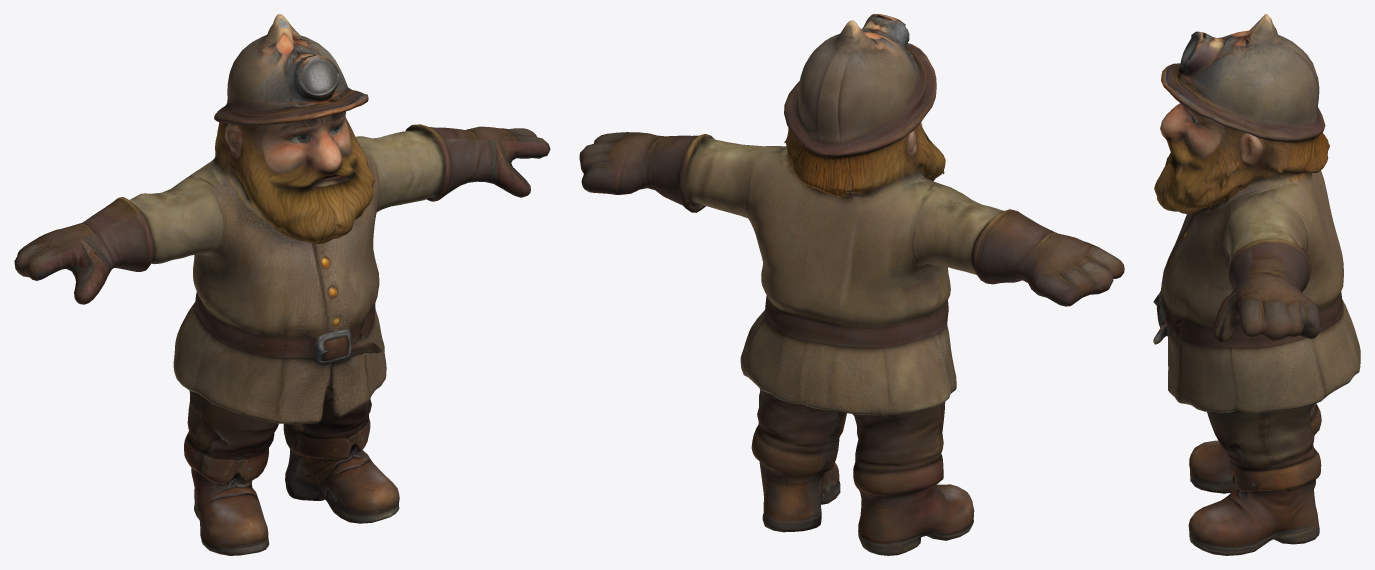
File: Miner.fbx
3 views of the same model, side by side, from view 1: azimuth 30°, elevation 25°; view 2: azimuth 150°, elevation 25°; view 3: azimuth 270°, elevation 25° (orthographic).
Parts seen in each view (by area): view 1: Mesh1.0; view 2: Mesh1.0; view 3: Mesh1.0.
Part boxes in pixels (box(x1,y1,x2,y2)): Mesh1.0: box(14, 14, 550, 555); Mesh1.0: box(579, 14, 1124, 555); Mesh1.0: box(1153, 14, 1360, 555).
Bounding box in the file's own units: 199 × 182 × 68.79.
Materials: 1 (1 with a texture image).
